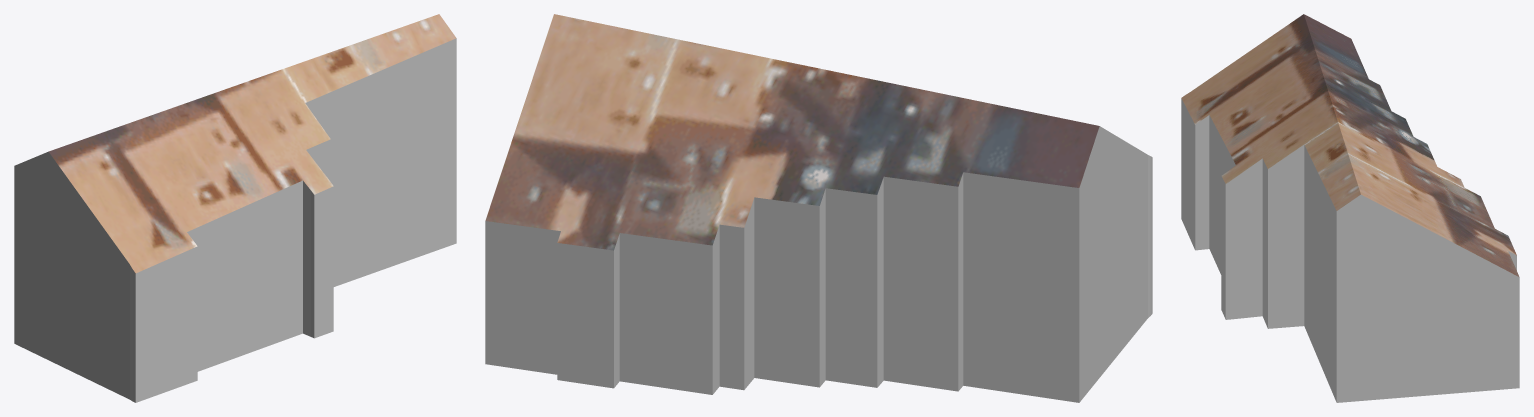
Rendered from DEBW_0010007Tvlq.gltf.
3 renders of one model, left to right at view 1: azimuth 30°, elevation 25°; view 2: azimuth 150°, elevation 25°; view 3: azimuth 270°, elevation 25°, orthographic. The views are drawn at different scales.
Visible parts, largest first — view 1: Z_UP; view 2: Z_UP; view 3: Z_UP.
Part boxes in pixels (left/top/right/bottom): Z_UP: left=14, top=14, right=456, bottom=402; Z_UP: left=485, top=14, right=1152, bottom=402; Z_UP: left=1181, top=14, right=1519, bottom=402.
Size of the model in its own units: 46.93 by 22.82 by 33.9.
Materials: 2 (1 with a texture image).
